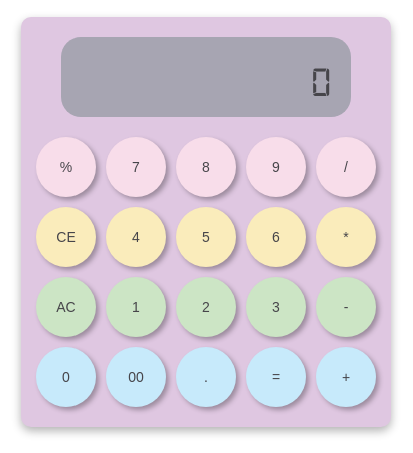
Test: <App/> component › equation cleared after completing an equation
Click the button "2" at {"x": 206, "y": 307}, box left=176, top=277, right=236, bottom=337
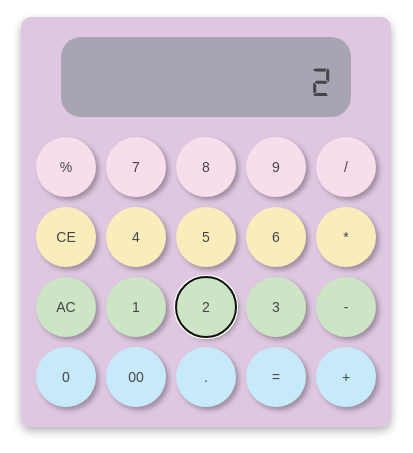
Click the button "+" at {"x": 346, "y": 377}, box left=316, top=347, right=376, bottom=407
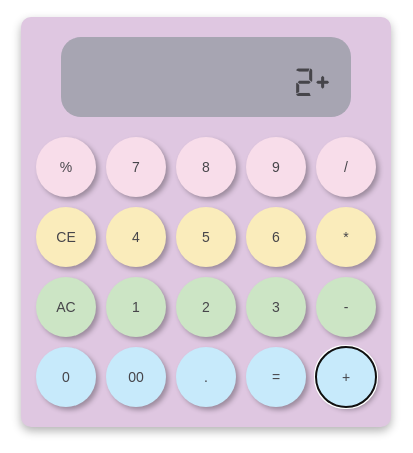
Click the button "3" at {"x": 276, "y": 307}, box left=246, top=277, right=306, bottom=337
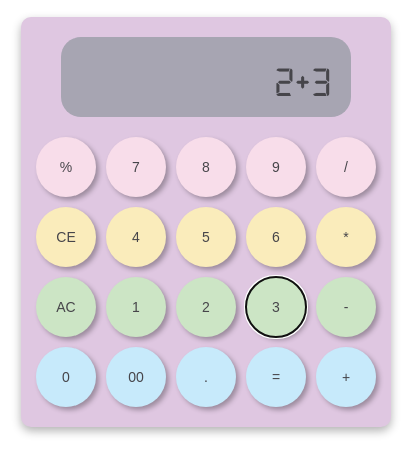
Click the button "=" at {"x": 276, "y": 377}, box left=246, top=347, right=306, bottom=407
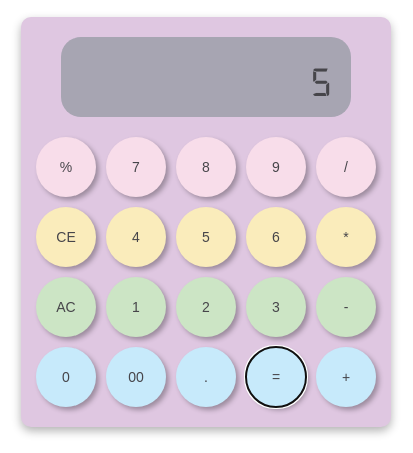
Expected: the message reads "5", left=311, top=65, right=331, bottom=88
Click the button "7" at {"x": 136, "y": 167}, box left=106, top=137, right=166, bottom=197
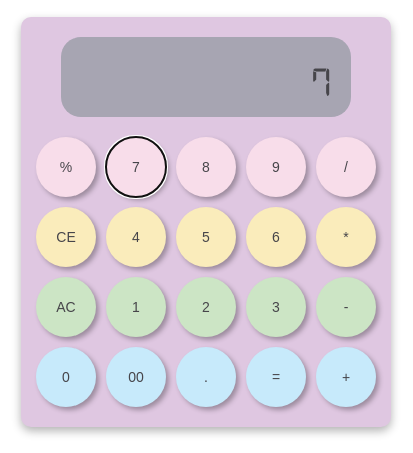
Expected: the message reads "7", left=311, top=65, right=331, bottom=88
